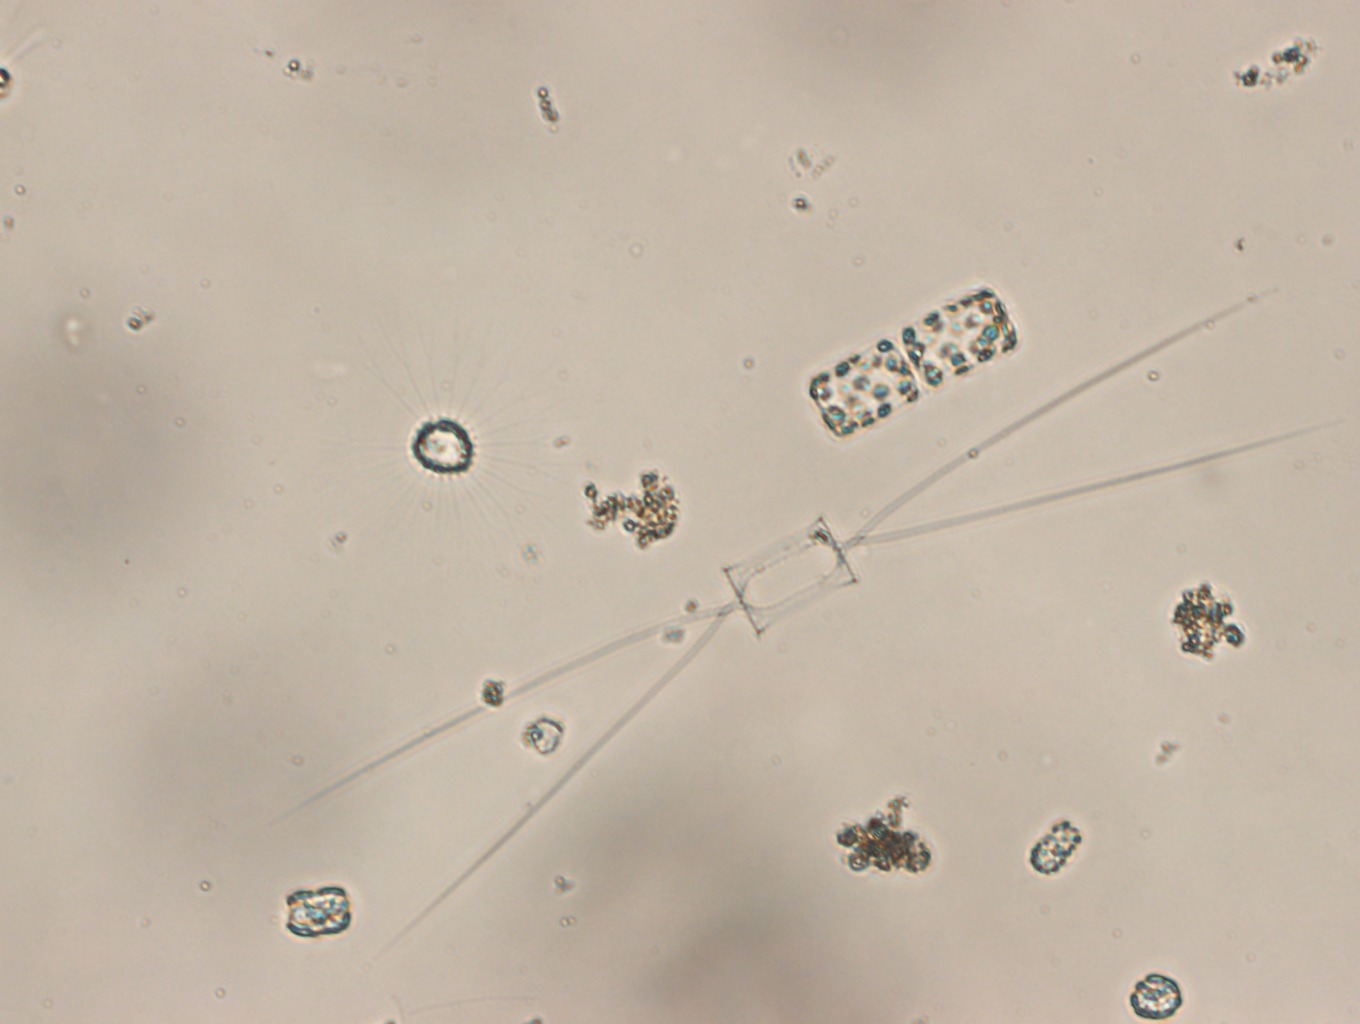bacteriastrum: (313, 327, 574, 552)
chaetoceros: (276, 286, 1344, 967)
